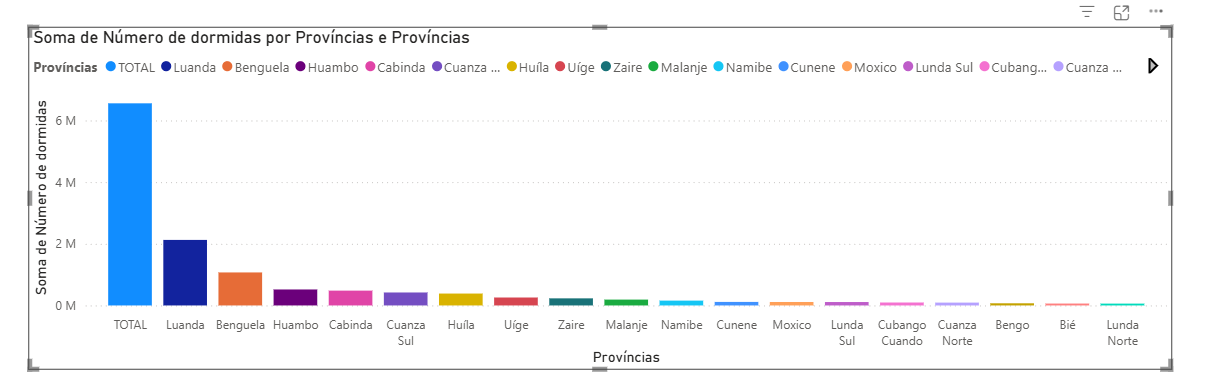

The page's visual inventory and layout, read from the dashboard file:
{"tool":"powerbi","page":{"name":"Página 2","canvas":[1280,720],"ordinal":1},"visuals":[{"type":"barChart","fields":{"Category":["Table023 (Page 26) (2).Províncias"],"Y":["Sum(Table023 (Page 26) (2).Número de dormidas)","Sum(Table023 (Page 26) (2).Permanecia média)","Sum(Table023 (Page 26) (2).Número de Hóspedes)"]},"box":[133.1,79.6,970.3,486.4],"z":0}]}

Visuals, with their boxes on the page's 1280x720 design canvas (x1, y1, x2, y2). These are canvas units, not pixel positions in the 1218x392 screenshot, which may show the page scaled, cropped or inside an application window:
barChart - Table023 (Page 26) (2).Províncias x Sum(Table023 (Page 26) (2).Número de dormidas): 133, 80, 1103, 566
